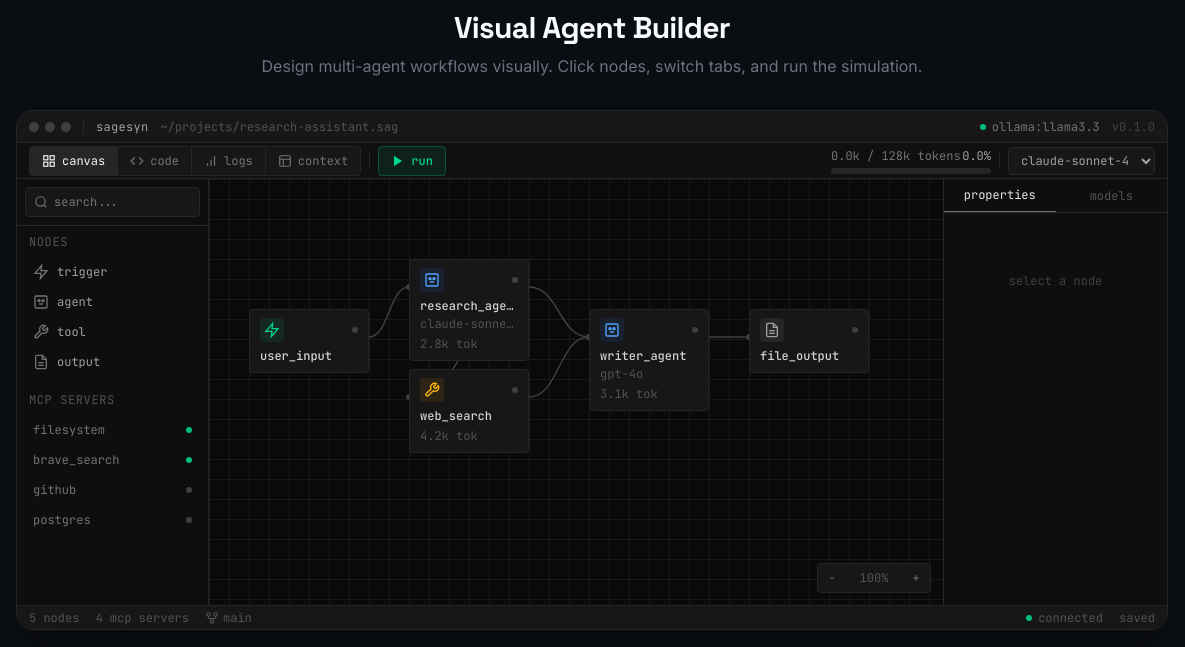
Test: IDEPreview › switches to context tab when clicked
Click the button "context". click: (313, 160)
box: [266,146,360,174]
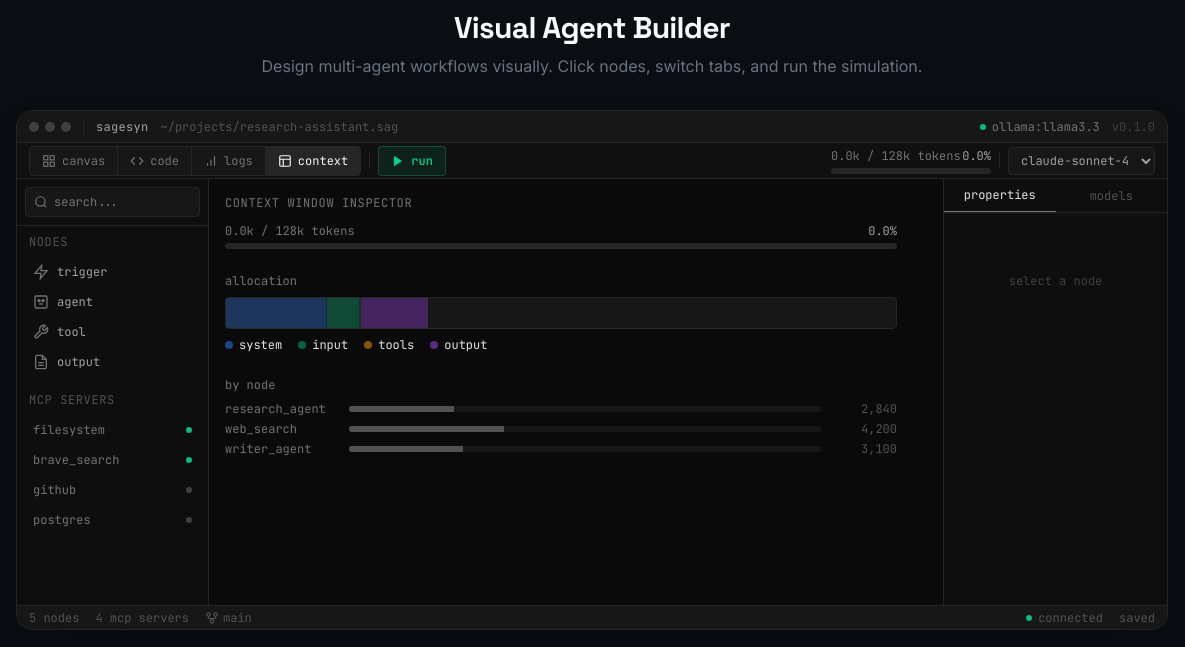
Check: the text "context window inspector" is shown, box [225,195,412,211]
Check: the text "allocation" is shown, box [225,273,297,289]
